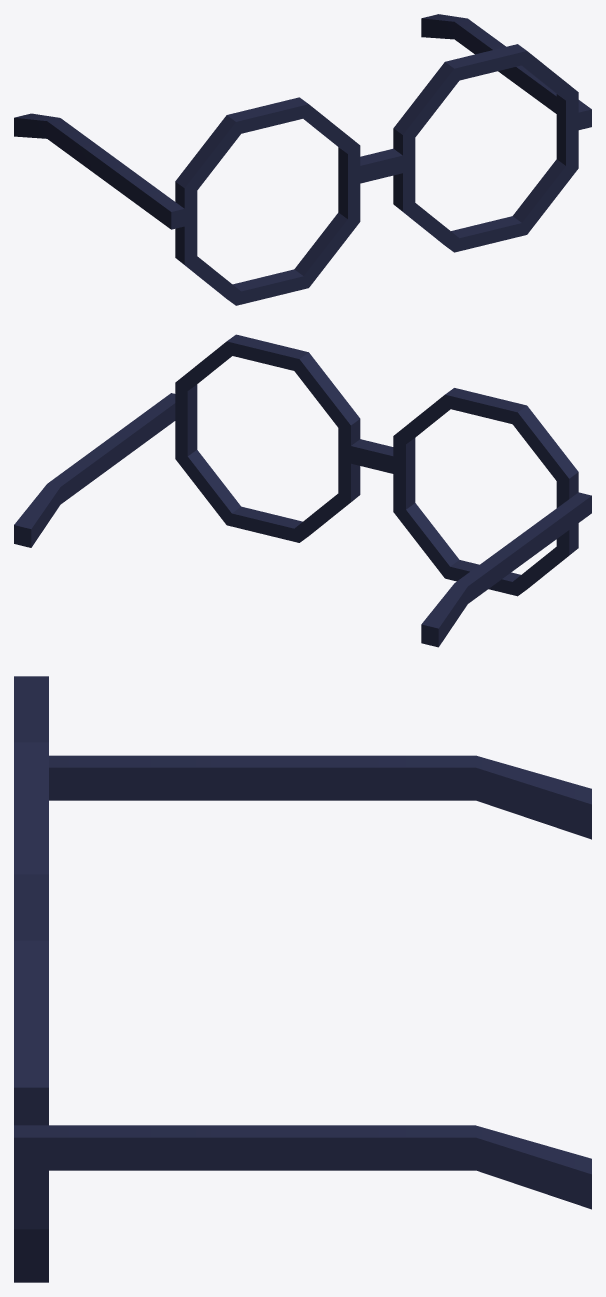
Rendered from glasses_circle.fbx.
3 renders of one model, top to bottom at view 1: azimuth 30°, elevation 25°; view 2: azimuth 150°, elevation 25°; view 3: azimuth 270°, elevation 25°, orthographic. The views are drawn at different scales.
Visible parts, largest first — view 1: glasses_circle; view 2: glasses_circle; view 3: glasses_circle.
Part boxes in pixels (<box>): glasses_circle: <box>14,14,591,305</box>; glasses_circle: <box>14,334,591,647</box>; glasses_circle: <box>14,676,591,1282</box>.
Bounding box in the file's own units: 125 × 51.77 × 79.23.
1 material, 1 textured.
